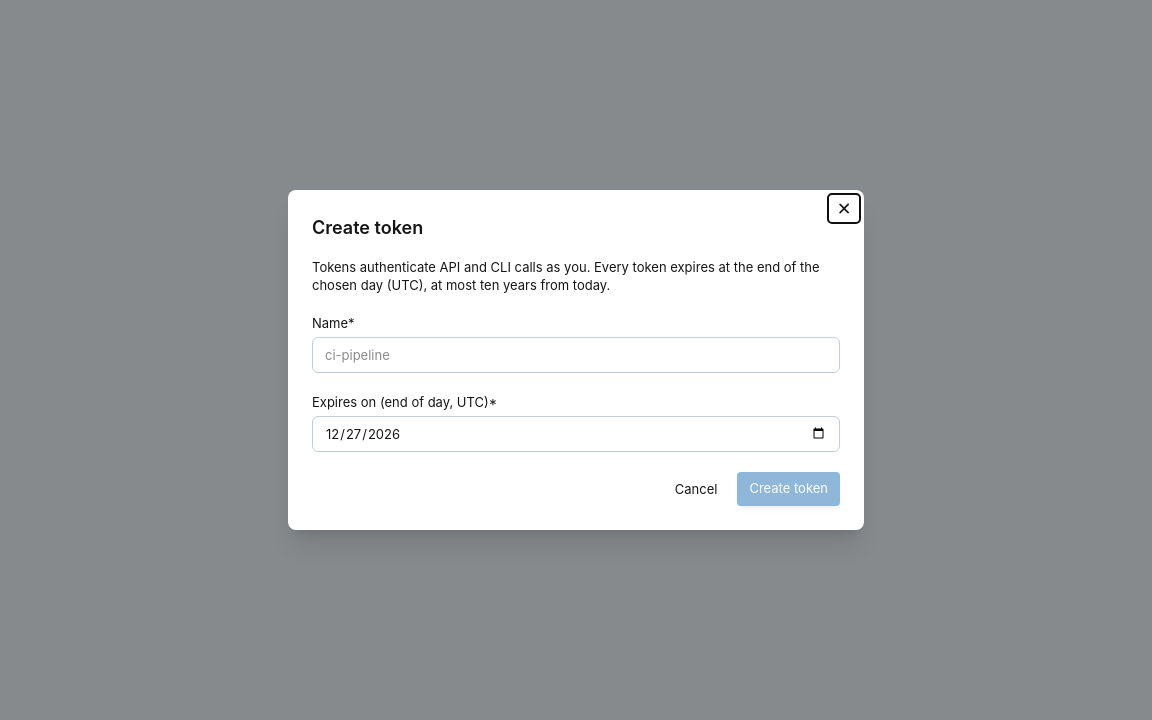
CreateUserTokenModal › surfaces a 409 from the server inside the dialog
Step 1. Type "ci" into the field labelled "Name*" → [576, 355], box x1=312 y1=337 x2=840 y2=373
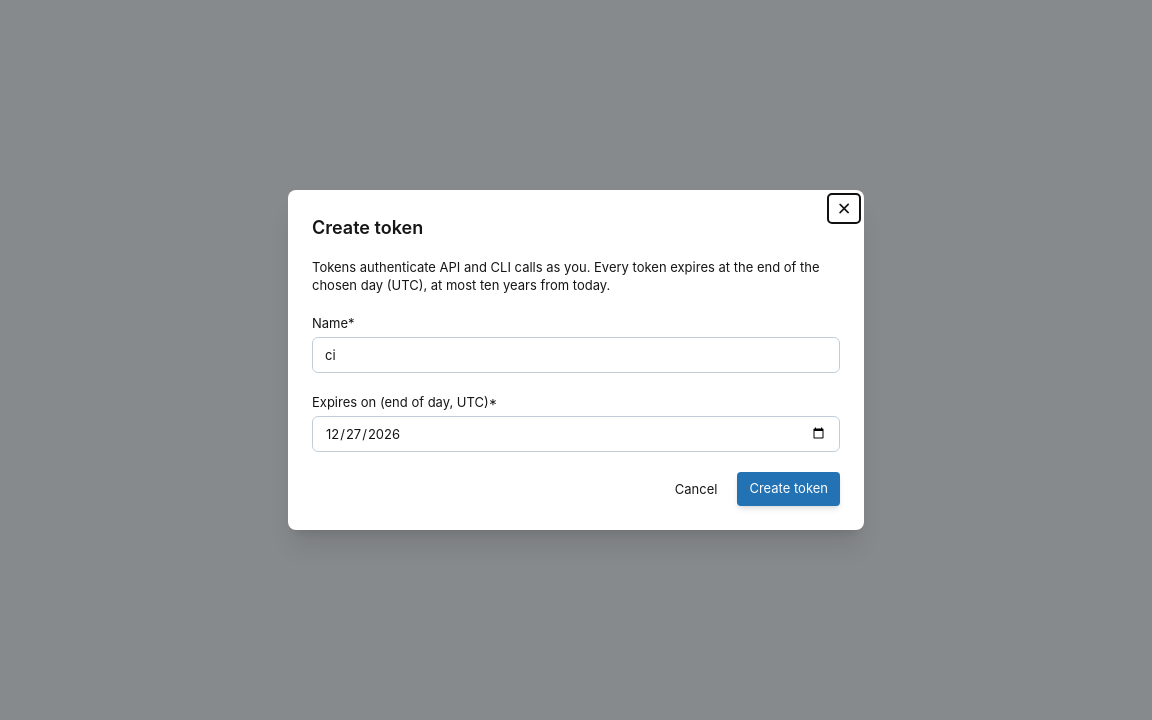
Step 2. Type "2026-10-31" into the date field labelled "Expires on (end of day, UTC)*" → [576, 434], box x1=312 y1=416 x2=840 y2=452
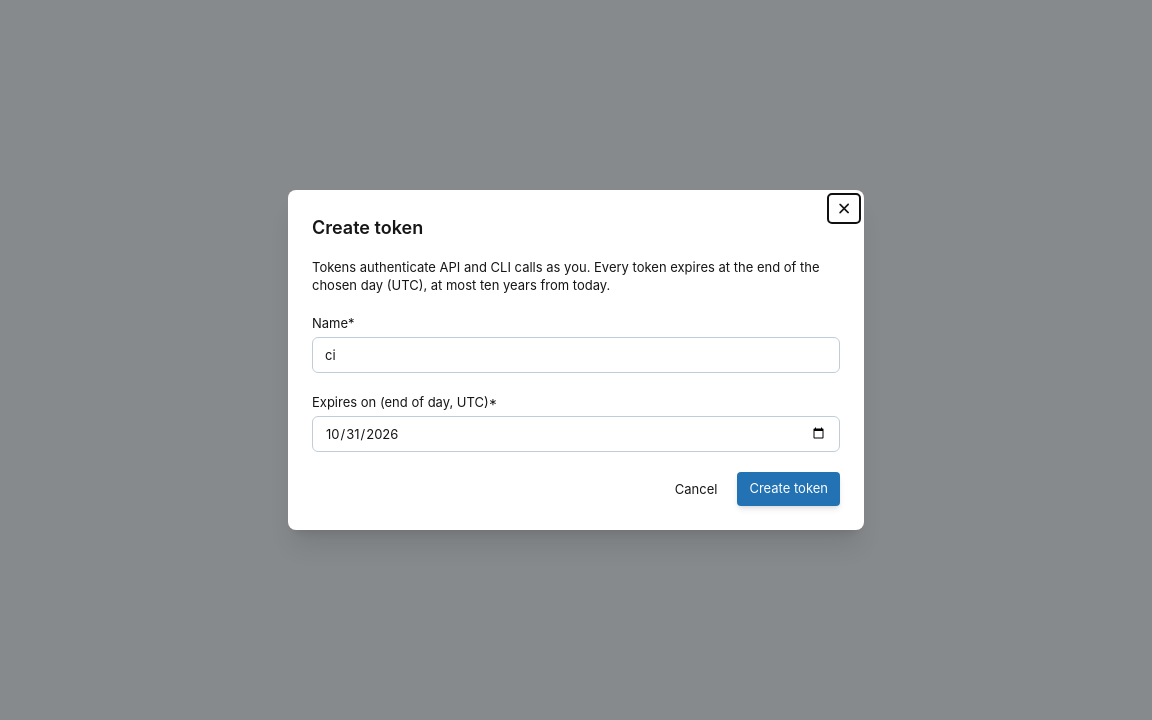
Step 3. Click the button "Create token" → [789, 489], box x1=737 y1=472 x2=840 y2=506
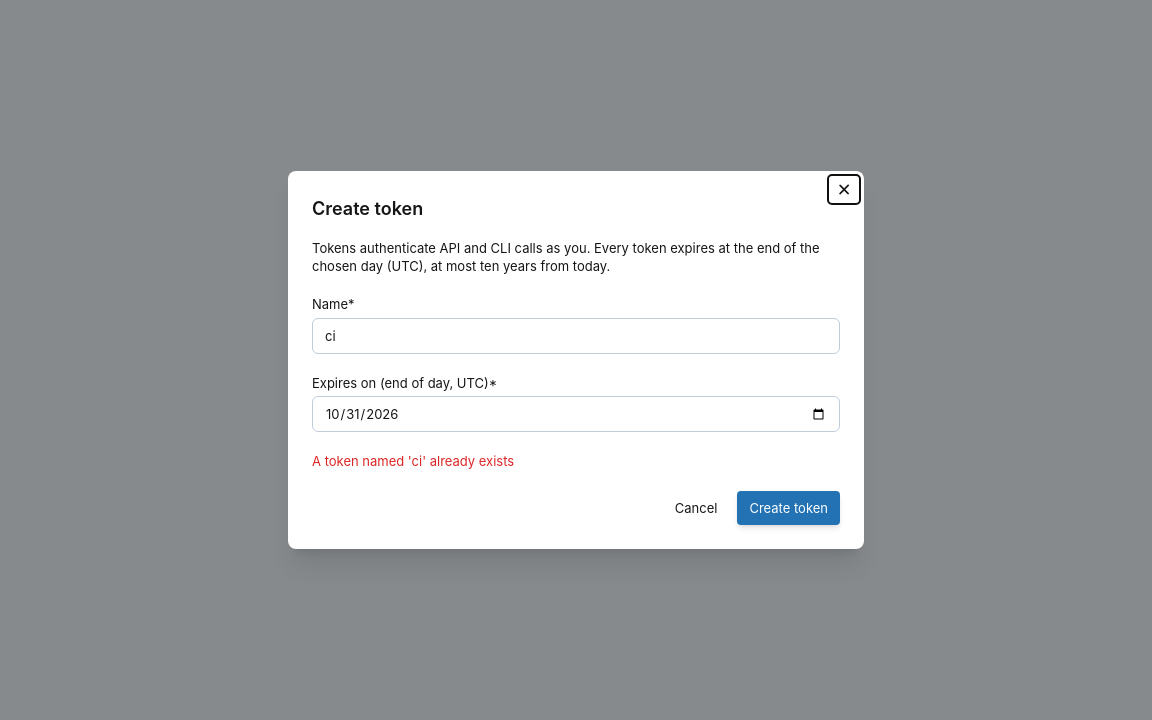
Expected: the message reads "A token named 'ci' already exists", x1=312 y1=453 x2=514 y2=469
